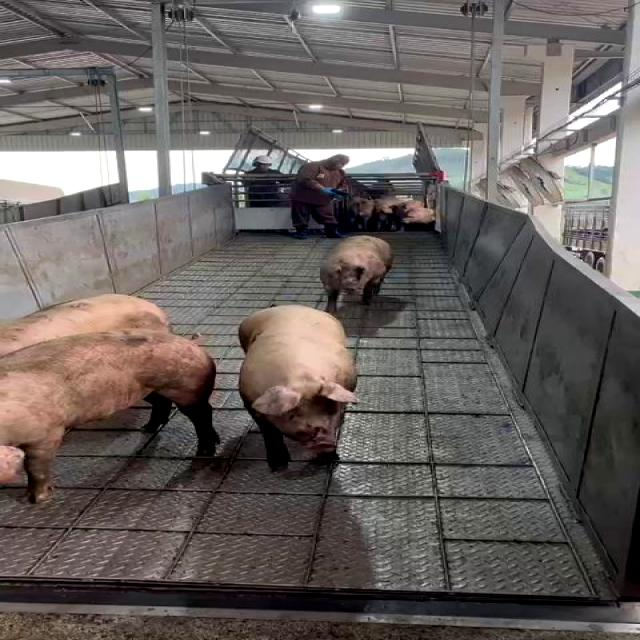pig: (0, 329, 218, 502), (238, 305, 358, 470), (0, 294, 168, 356), (321, 235, 392, 312)
